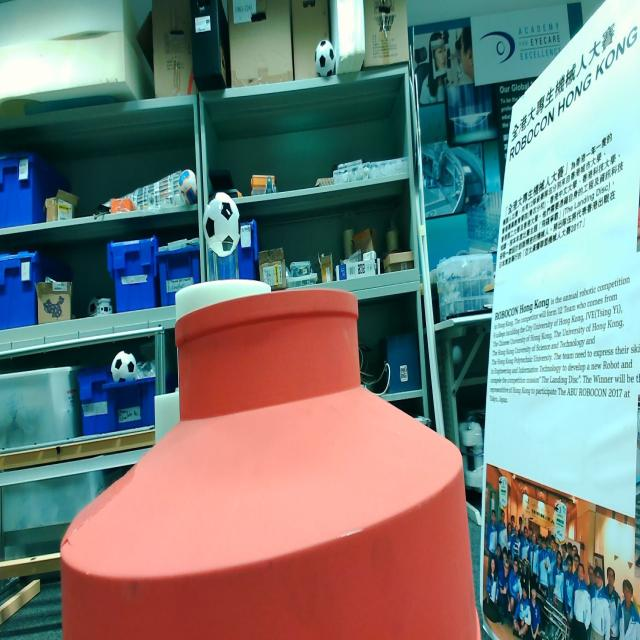ball: (200, 187, 242, 259), (109, 346, 138, 384), (313, 37, 336, 80), (177, 166, 199, 206)
